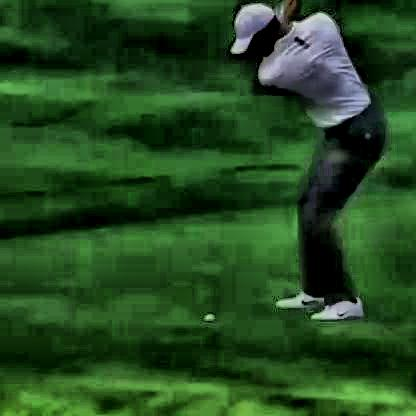golfball: (202, 311, 212, 318)
